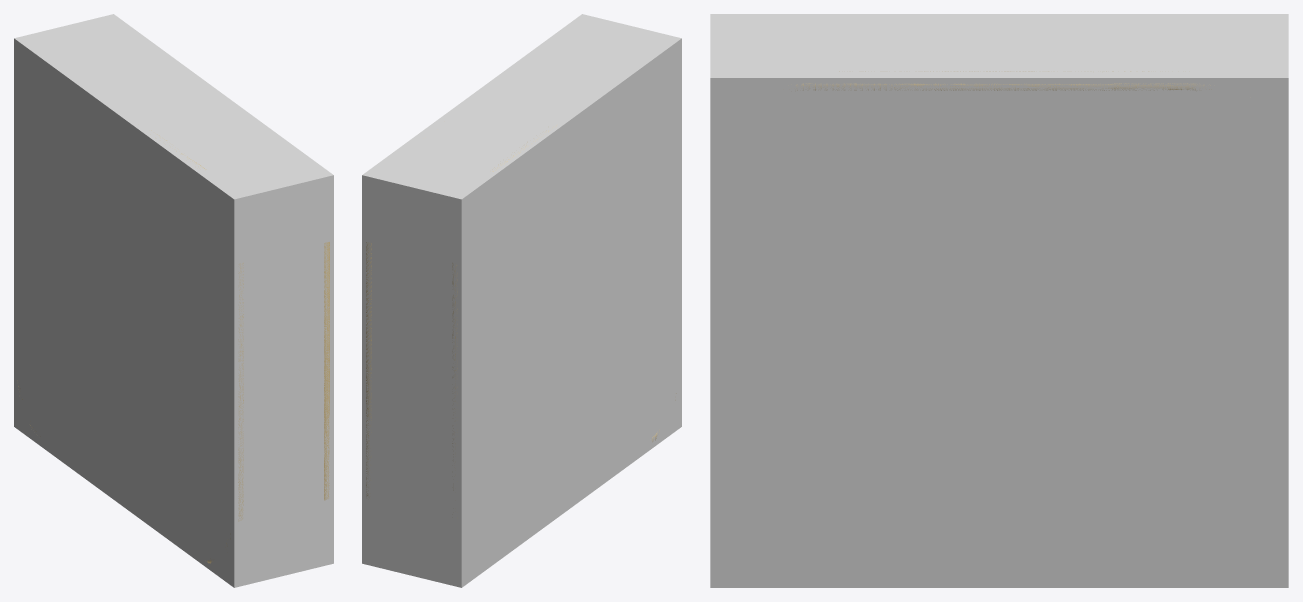
File: UpLu_Wall_Shelf.gltf
3 views of the same model, side by side, from view 1: azimuth 30°, elevation 25°; view 2: azimuth 150°, elevation 25°; view 3: azimuth 270°, elevation 25° (orthographic). The views are drawn at different scales.
Parts seen in each view (by area): view 1: UpLu_Wall_Shelf.001_bcol, UpLu_Wall_Shelf.001; view 2: UpLu_Wall_Shelf.001_bcol, UpLu_Wall_Shelf.001; view 3: UpLu_Wall_Shelf.001_bcol, UpLu_Wall_Shelf.001.
Part boxes in pixels (x1=…): UpLu_Wall_Shelf.001_bcol: x1=14, y1=14, x2=333, y2=587; UpLu_Wall_Shelf.001: x1=17, y1=130, x2=329, y2=563; UpLu_Wall_Shelf.001_bcol: x1=362, y1=14, x2=681, y2=587; UpLu_Wall_Shelf.001: x1=366, y1=125, x2=676, y2=497; UpLu_Wall_Shelf.001_bcol: x1=710, y1=14, x2=1288, y2=587; UpLu_Wall_Shelf.001: x1=796, y1=71, x2=1211, y2=90.
Size of the model in its own units: 0.3123 by 1.16 by 1.19.
3 materials, 2 textured.
